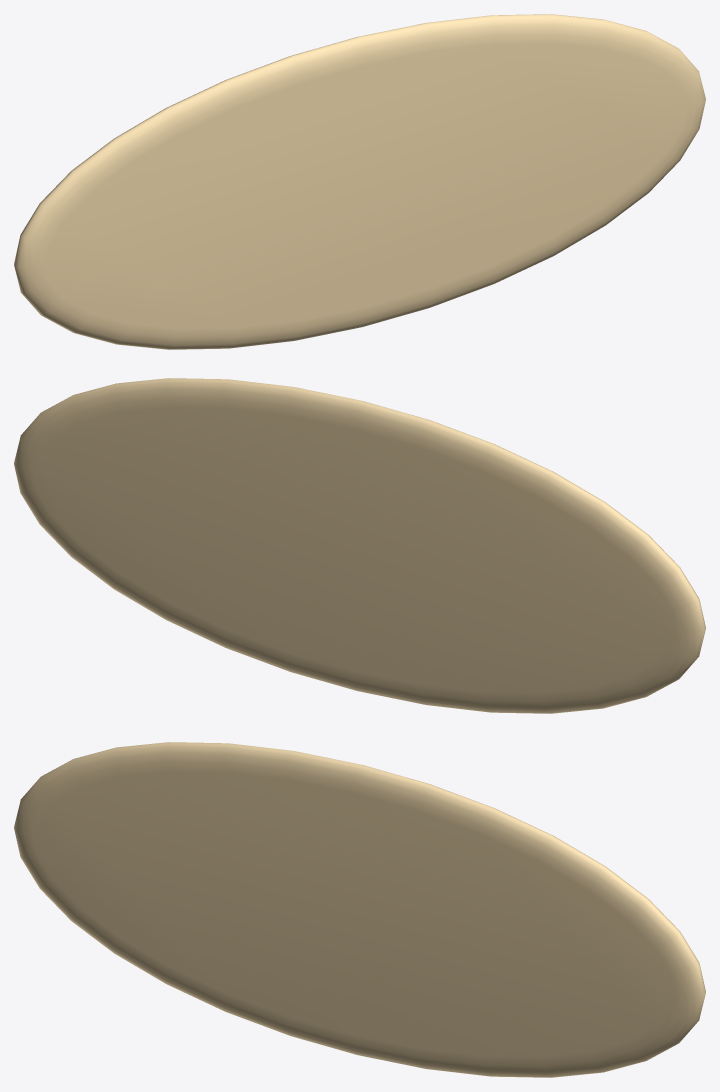
The model's file is plate.glb.
3 renders of one model, top to bottom at view 1: azimuth 30°, elevation 25°; view 2: azimuth 150°, elevation 25°; view 3: azimuth 330°, elevation 25°, orthographic.
Parts seen in each view (by area): view 1: Cylinder; view 2: Cylinder; view 3: Cylinder.
Part boxes in pixels (<box>): Cylinder: <box>14,14,705,349</box>; Cylinder: <box>14,378,705,713</box>; Cylinder: <box>14,742,705,1077</box>.
Bounding box in the file's own units: 2 × 0.8032 × 0.0583.
